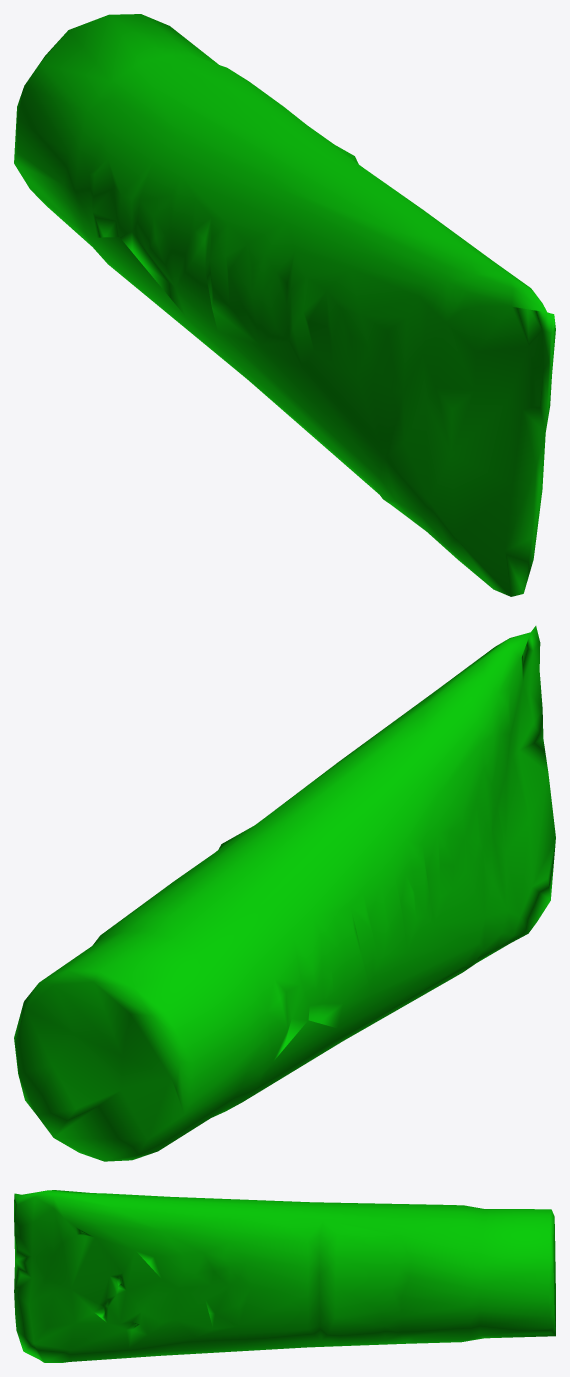
The picture shows the model from 3 angles, top to bottom: view 1: azimuth 30°, elevation 25°; view 2: azimuth 150°, elevation 25°; view 3: azimuth 270°, elevation 25°; orthographic projection. The views are drawn at different scales.
Parts seen in each view (by area): view 1: Toothpaste_800_tex; view 2: Toothpaste_800_tex; view 3: Toothpaste_800_tex.
Part boxes in pixels (<box>): Toothpaste_800_tex: <box>14,14,555,596</box>; Toothpaste_800_tex: <box>14,626,555,1161</box>; Toothpaste_800_tex: <box>14,1190,555,1362</box>.
Size of the model in its own units: 0.0311 by 0.1241 by 0.045.
